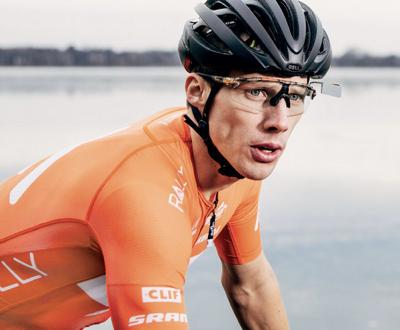With Helmet: (173, 0, 335, 183)
